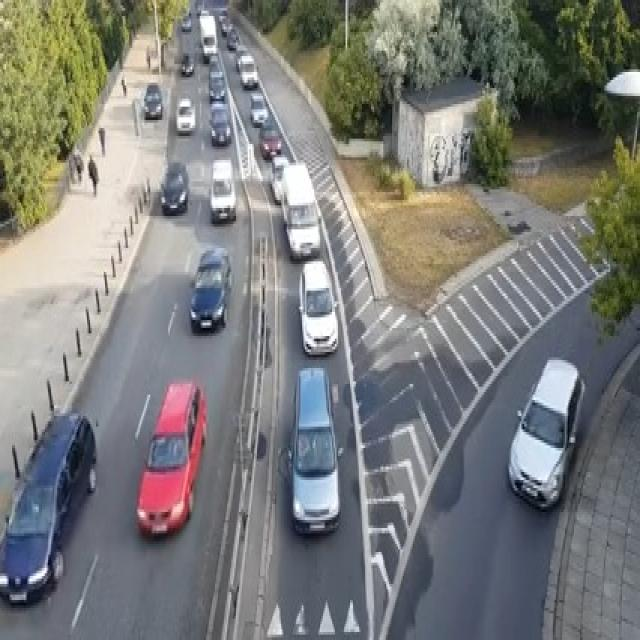car: (0, 411, 96, 605), (506, 355, 584, 509), (135, 378, 206, 538), (278, 365, 341, 536), (279, 160, 320, 259), (297, 258, 338, 354), (190, 245, 232, 331), (209, 158, 236, 222), (159, 160, 188, 213), (209, 101, 231, 144), (258, 120, 281, 160), (269, 154, 288, 202), (198, 11, 216, 61), (176, 96, 195, 133), (143, 83, 162, 117), (250, 91, 268, 125), (239, 56, 258, 88), (209, 72, 225, 101), (234, 43, 248, 72), (180, 53, 194, 75), (226, 27, 240, 48), (220, 13, 232, 35), (180, 11, 191, 29)
